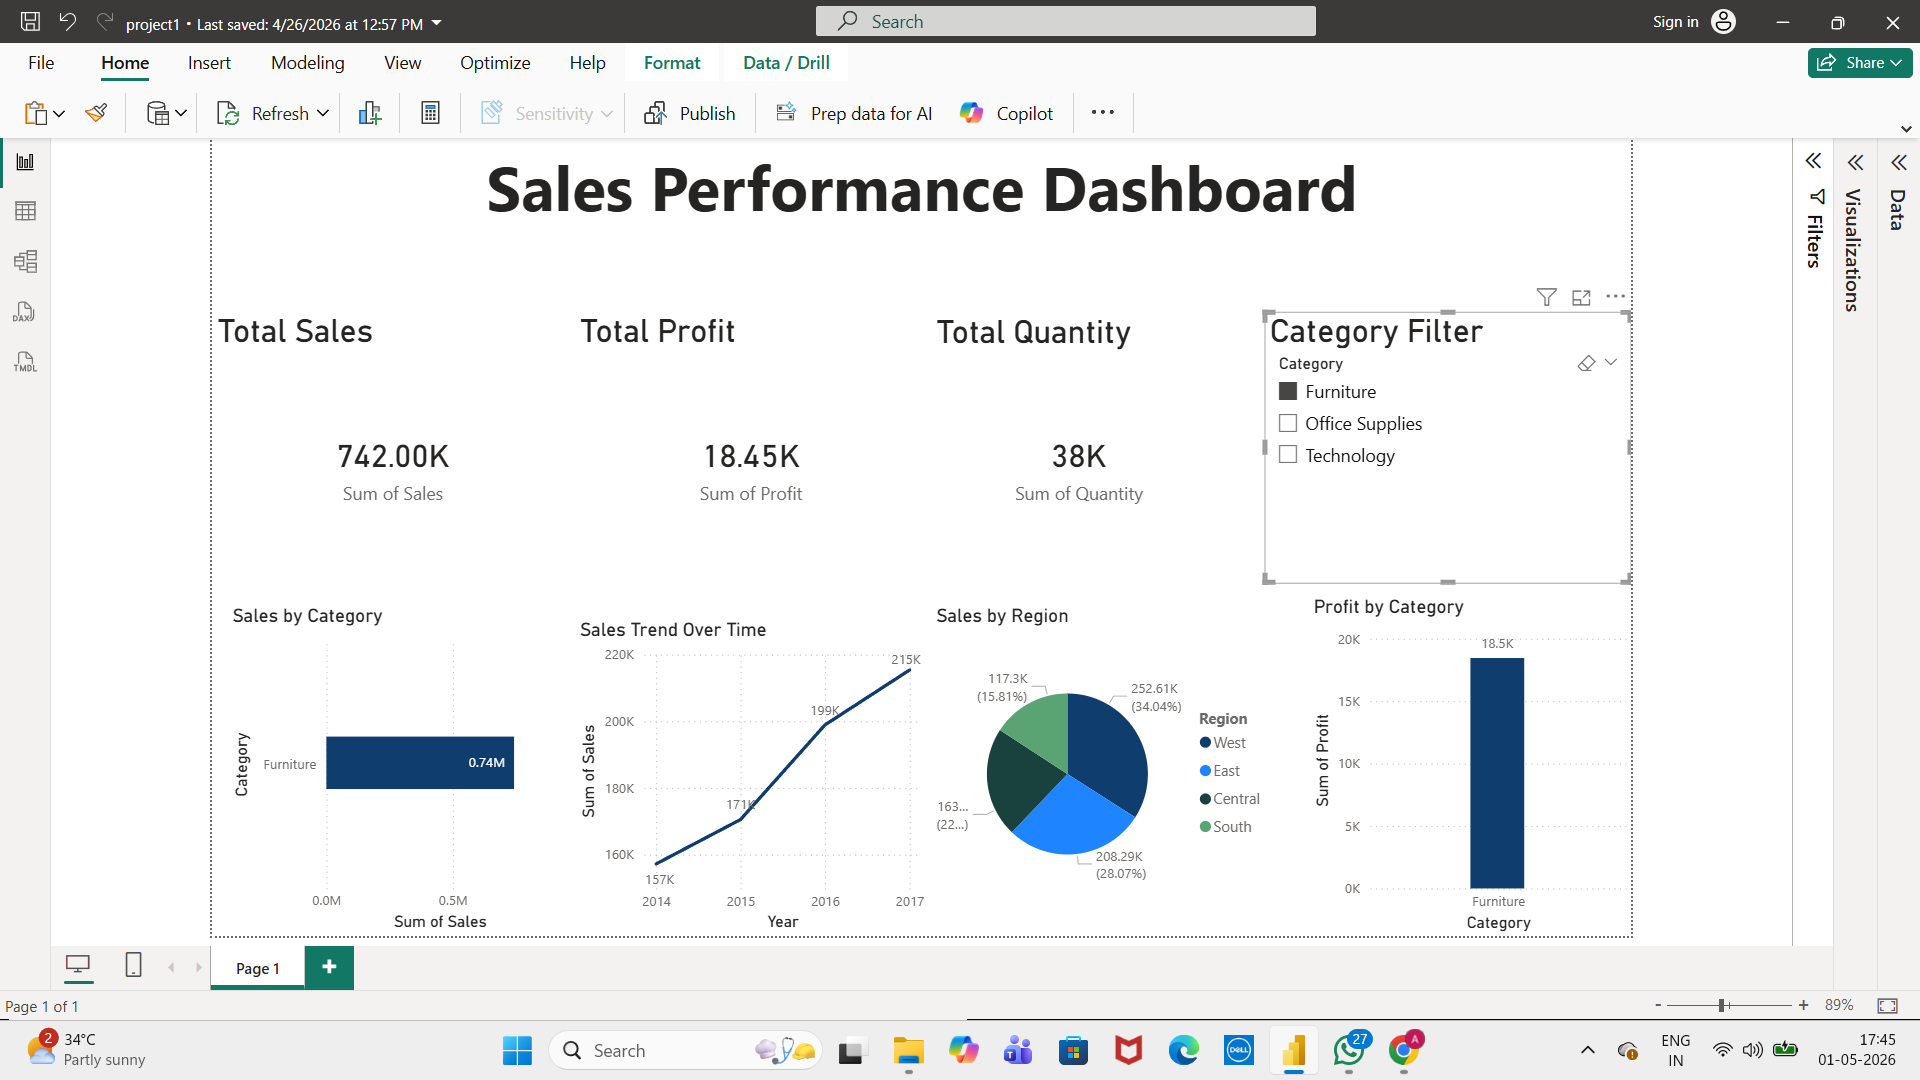

Layout of this report page (visuals, bound fields, positions):
{"tool":"powerbi","page":{"name":"Page 1","canvas":[1280,720],"ordinal":0},"visuals":[{"type":"card","title":"Total Sales","fields":{"Values":["Sum(Orders.Sales)"]},"box":[0,156.7,326.9,245.7],"z":0},{"type":"card","title":"Total Profit","fields":{"Values":["Sum(Orders.Profit)"]},"box":[326.9,156.7,319,245.7],"z":1000},{"type":"card","title":"Total Quantity","fields":{"Values":["Sum(Orders$FilterDatabase.Quantity)"]},"box":[648,158,267.8,243.7],"z":2000},{"type":"clusteredBarChart","title":"Sales by Category","fields":{"Category":["Orders.Category"],"Y":["Sum(Orders.Sales)"]},"box":[13.5,420.7,314.3,299.6],"z":3000},{"type":"lineChart","title":"Sales Trend Over Time","fields":{"Category":["Orders.Order Date.Variation.Date Hierarchy.Year","Orders.Order Date.Variation.Date Hierarchy.Quarter","Orders.Order Date.Variation.Date Hierarchy.Month","Orders.Order Date.Variation.Date Hierarchy.Day"],"Y":["Sum(Orders.Sales)"]},"box":[326.5,432.9,320.4,287.4],"z":4000},{"type":"pieChart","title":"Sales by Region","fields":{"Category":["Orders.Region"],"Y":["Sum(Orders.Sales)"]},"box":[648.1,420.7,311.8,287.4],"z":5000},{"type":"slicer","title":"Category Filter","fields":{"Values":["Orders.Category"]},"box":[949,156.7,331.4,245.7],"z":6000},{"type":"textbox","box":[0,0,1280.4,109.3],"z":7000},{"type":"clusteredColumnChart","title":"Profit by Category","fields":{"Category":["Orders.Category"],"Y":["Sum(Orders.Profit)"]},"box":[988,412.1,292.3,308.2],"z":8000}]}

Visuals, with their boxes on the page's 1280x720 design canvas (x1, y1, x2, y2). These are canvas units, not pixel positions in the 1920x1080 screenshot, which may show the page scaled, cropped or inside an application window:
"Total Sales" card: box(0, 157, 327, 402)
"Total Profit" card: box(327, 157, 646, 402)
"Total Quantity" card: box(648, 158, 916, 402)
"Sales by Category" clusteredBarChart: box(14, 421, 328, 720)
"Sales Trend Over Time" lineChart: box(326, 433, 647, 720)
"Sales by Region" pieChart: box(648, 421, 960, 708)
"Category Filter" slicer: box(949, 157, 1280, 402)
textbox: box(0, 0, 1280, 109)
"Profit by Category" clusteredColumnChart: box(988, 412, 1280, 720)
